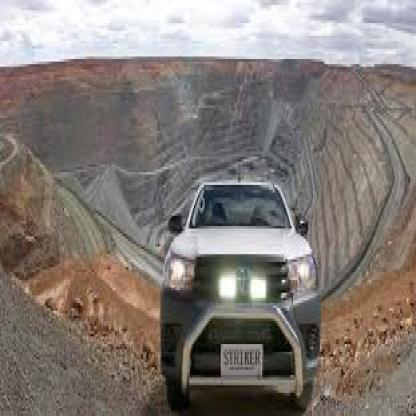light_vehicle: (146, 152, 334, 400)
